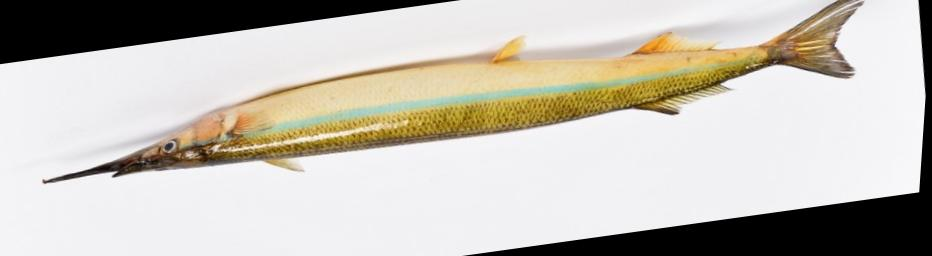fish: (49, 0, 867, 181)
